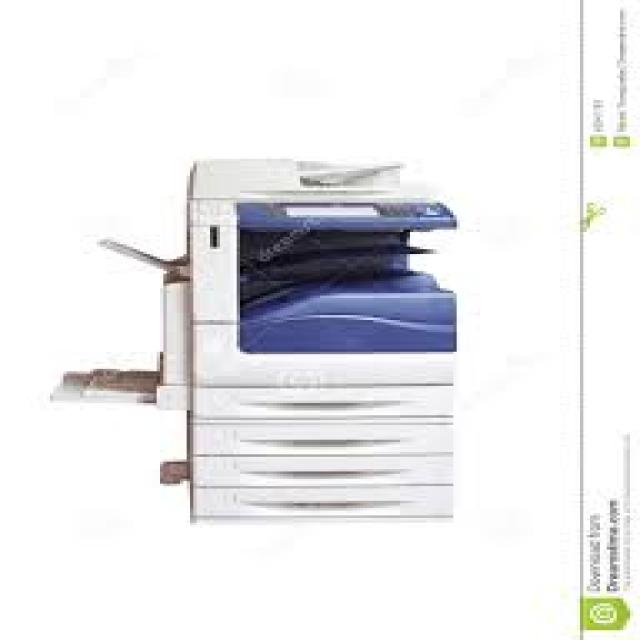printer: (31, 105, 542, 612)
